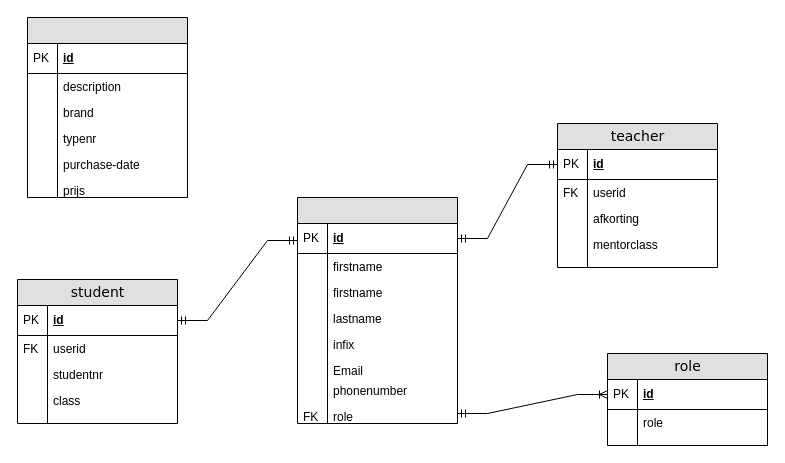
Some shapes in this 785 by 463 pixel diagram are drawn without their labels. The box of each missing label's shape, as (x1, y1, x2, y2) in pixels:
item: (26, 16, 188, 198)
user: (296, 196, 458, 424)
